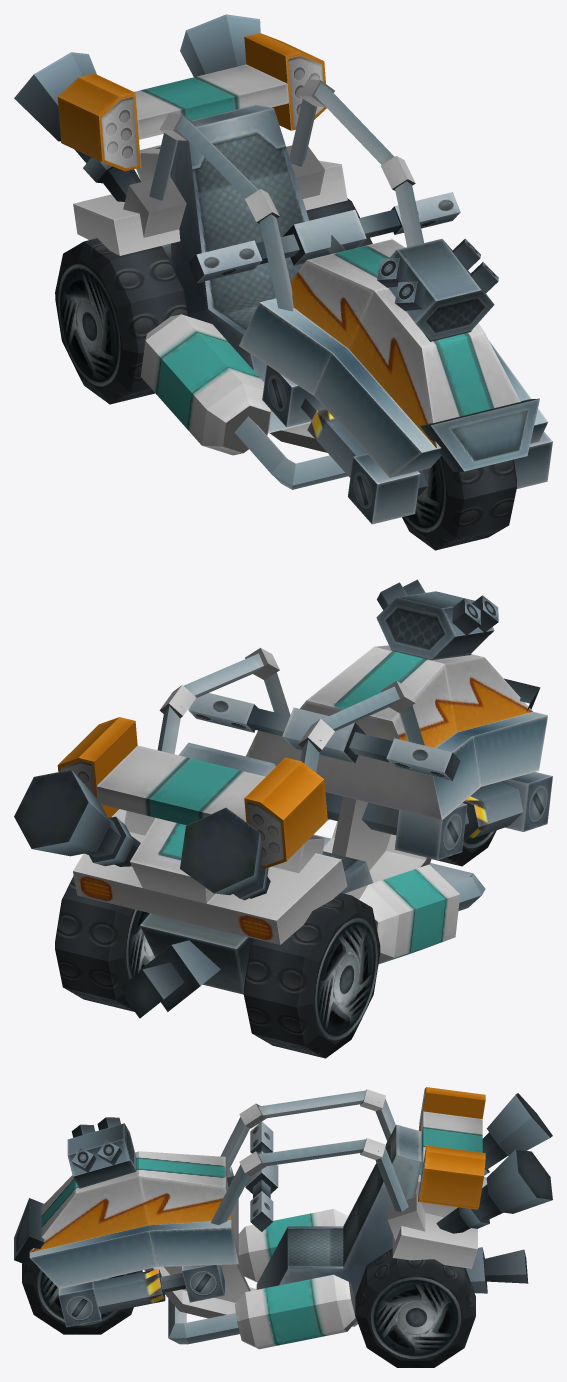
Rendered from AgentP_AI.glb.
3 renders of one model, top to bottom at view 1: azimuth 30°, elevation 25°; view 2: azimuth 150°, elevation 25°; view 3: azimuth 270°, elevation 25°, orthographic. The views are drawn at different scales.
Parts seen in each view (by area): view 1: kart_perry, right_weel, front_wheel; view 2: kart_perry, right_weel, left_wheel, front_wheel; view 3: kart_perry, left_wheel, front_wheel.
Boxes of the visible parts, bbox=[...] form: kart_perry: bbox=[14, 14, 552, 524]; right_weel: bbox=[55, 238, 188, 404]; front_wheel: bbox=[402, 456, 516, 550]; kart_perry: bbox=[14, 579, 552, 1018]; right_weel: bbox=[243, 893, 380, 1058]; left_wheel: bbox=[55, 876, 155, 1011]; front_wheel: bbox=[432, 830, 496, 866]; kart_perry: bbox=[14, 1087, 552, 1349]; left_wheel: bbox=[355, 1248, 475, 1367]; front_wheel: bbox=[22, 1261, 142, 1334].
Size of the model in its own units: 1.89 by 2.06 by 4.75.
Materials: 1 (1 with a texture image).
